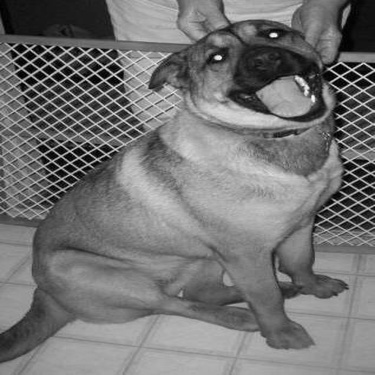dog: (4, 15, 352, 370)
